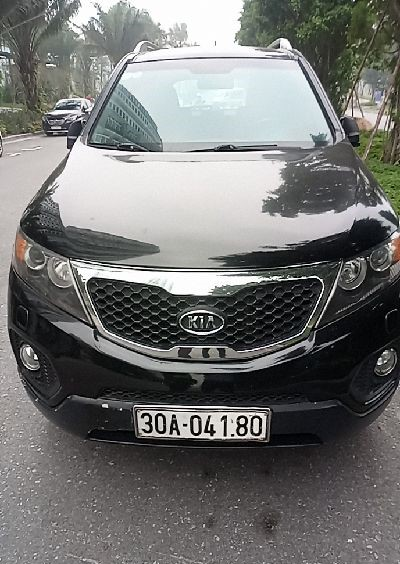number_plate: (121, 391, 292, 466)
